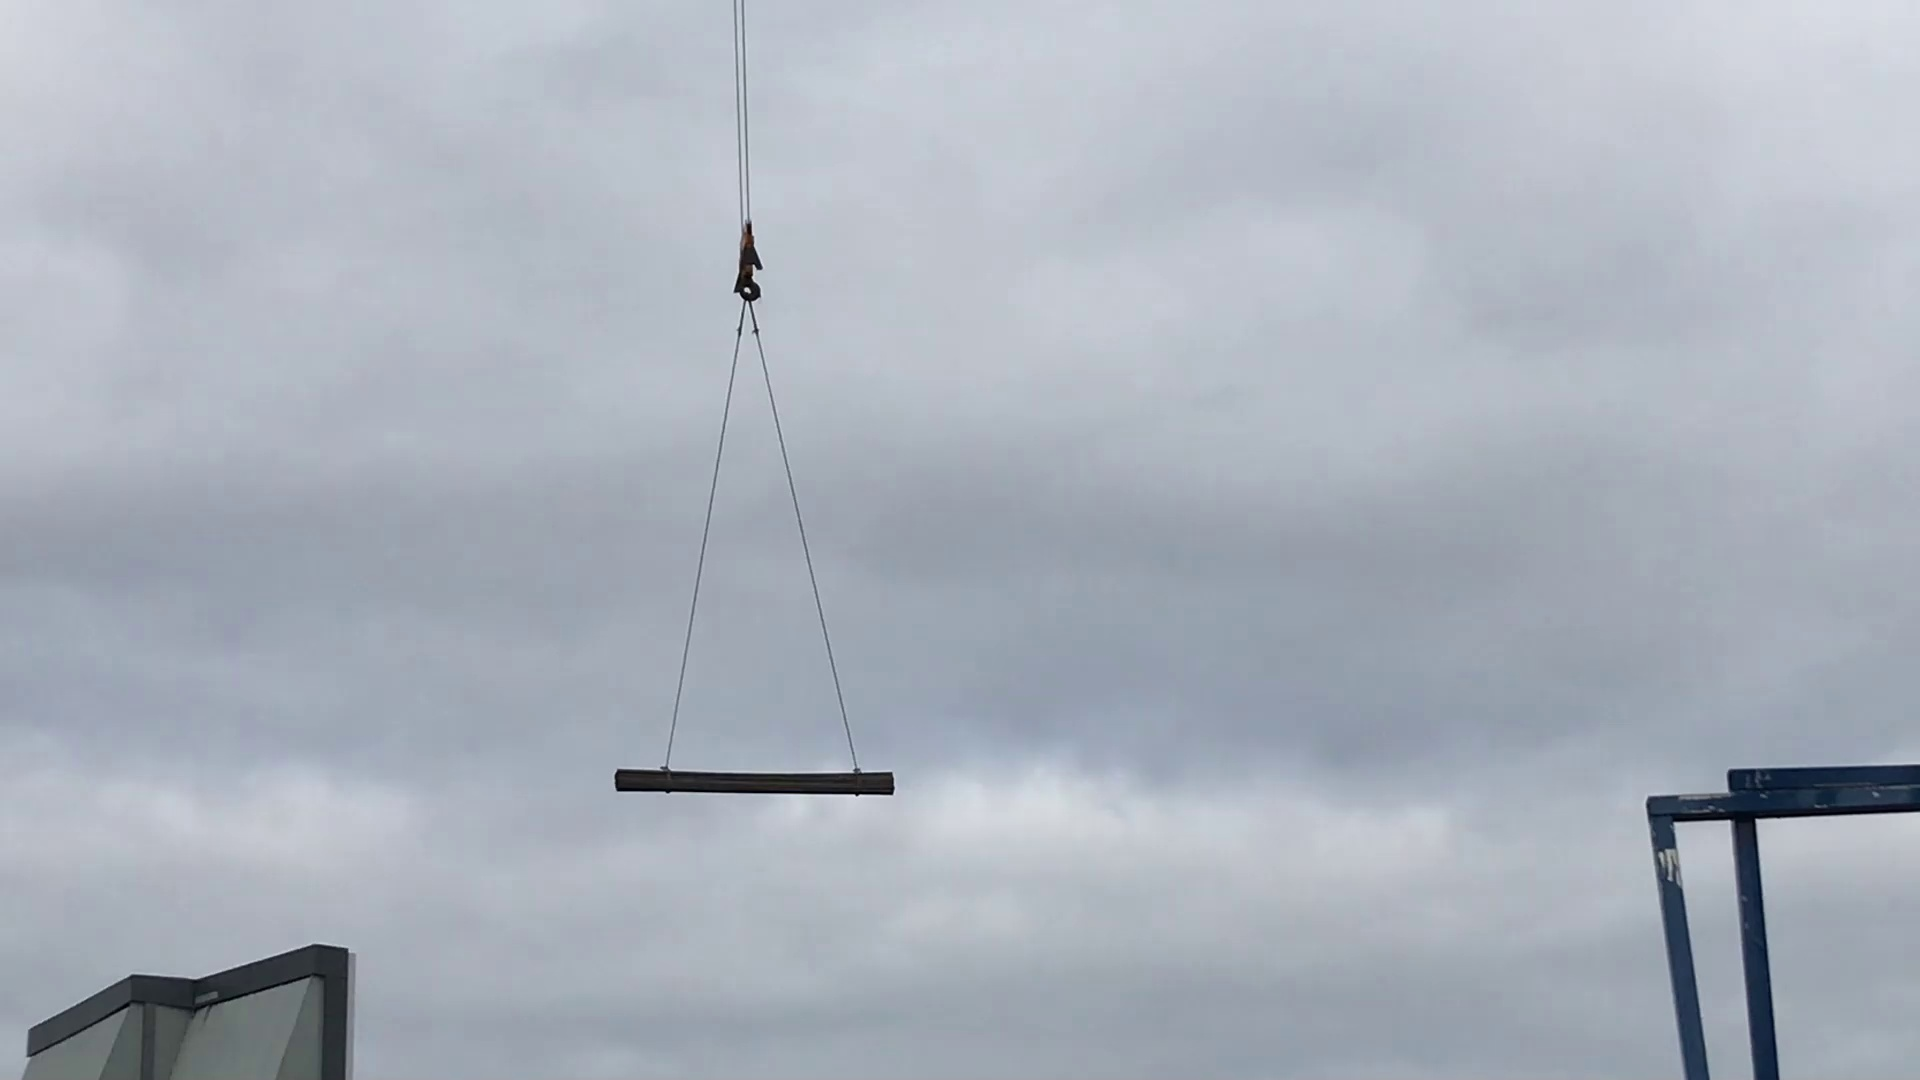hook: (707, 224, 775, 316)
rebar: (603, 756, 913, 804)
